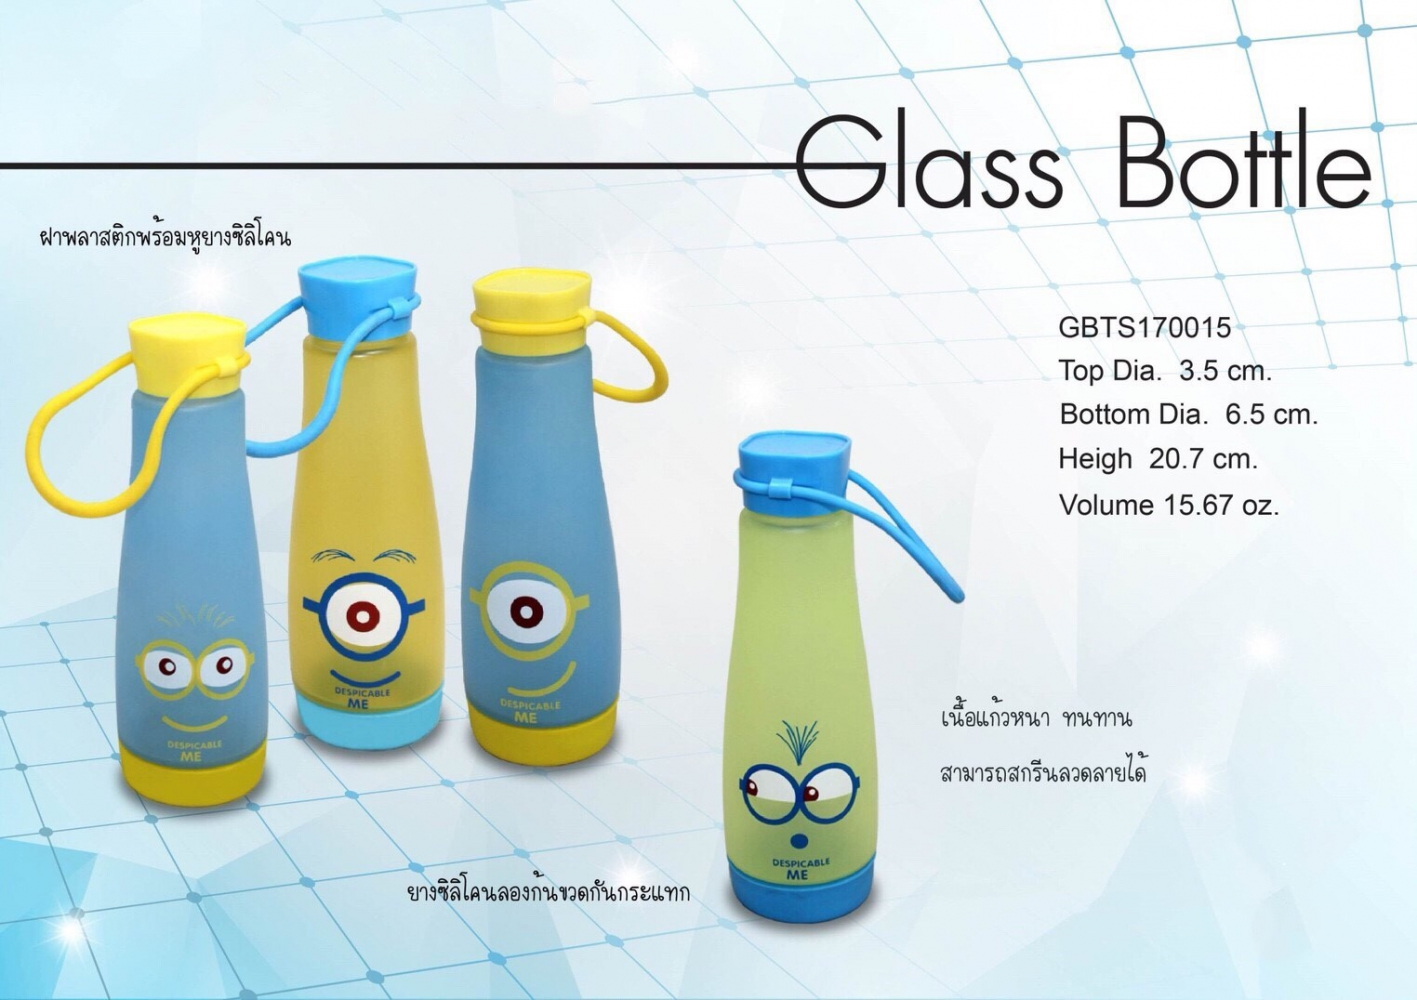glass_bottleww: (664, 226, 974, 1000), (8, 183, 304, 894), (431, 184, 688, 868), (234, 186, 464, 881)
